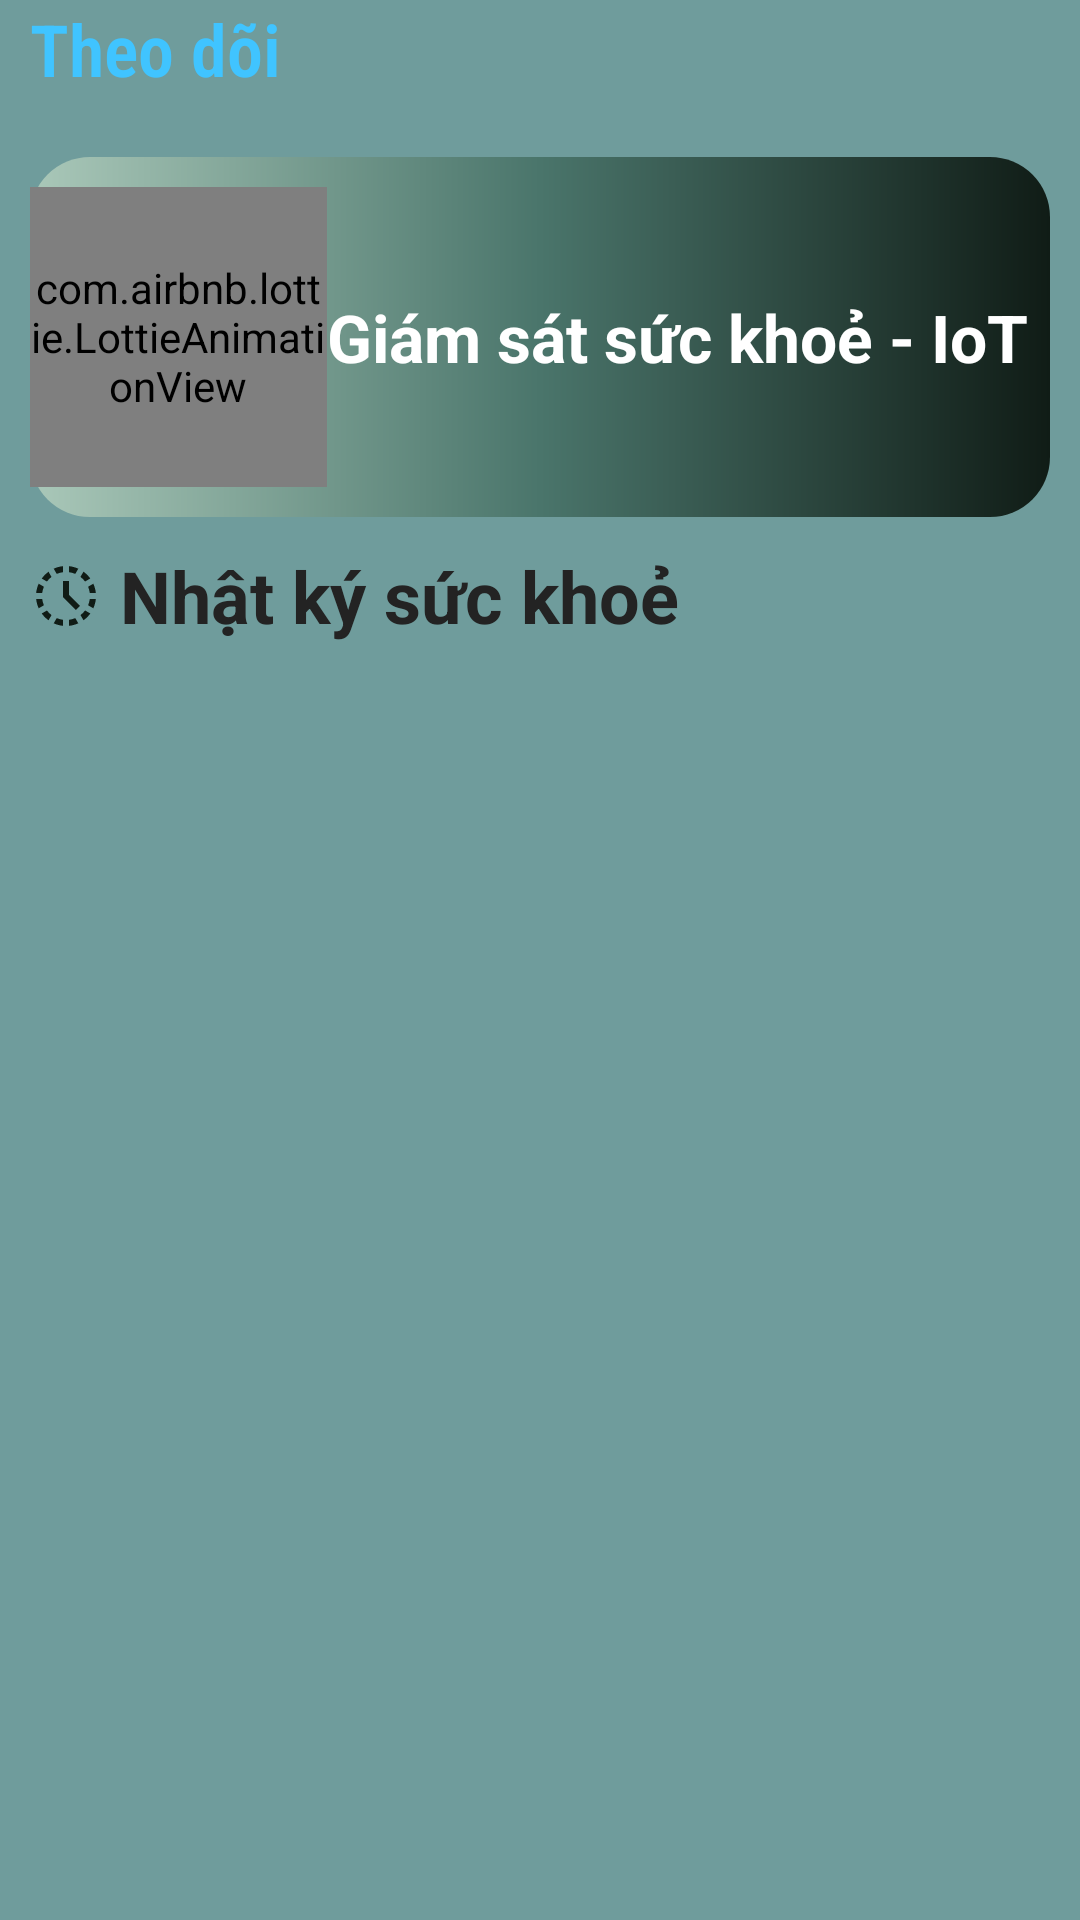

Icon bounding boxes for this 1080w x 1920h phone screenshot, format (x1, y1, x2, y2):
history: (36, 566, 96, 626)
